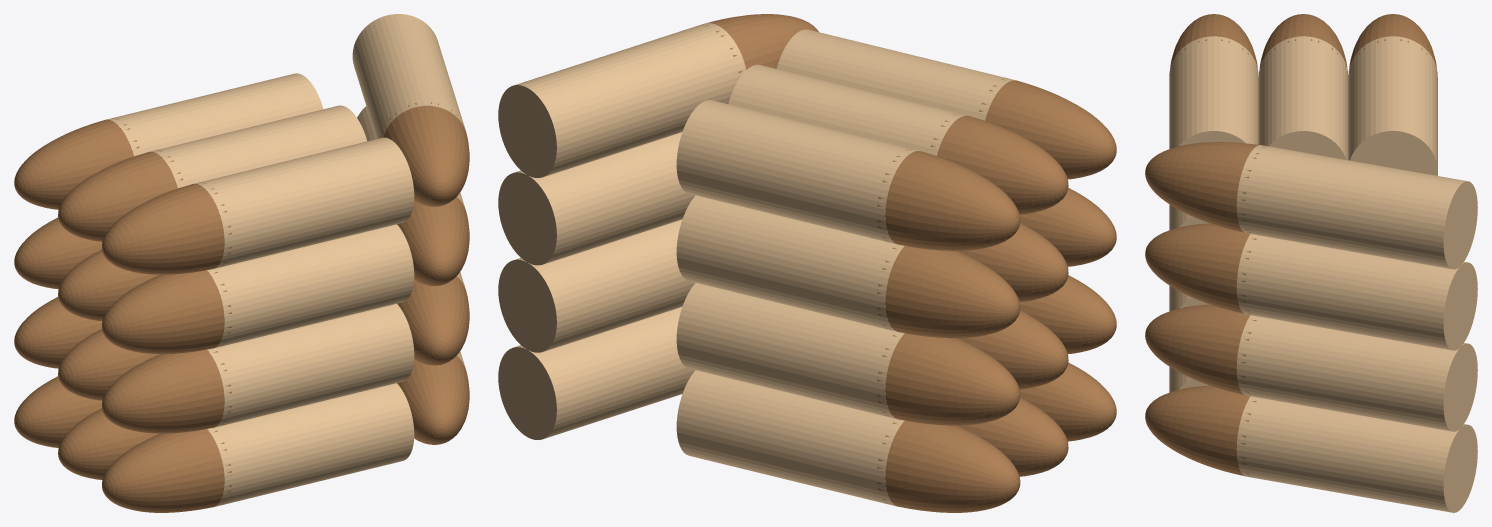
Rendered from ammo.obj.
The picture shows the model from 3 angles, left to right: view 1: azimuth 30°, elevation 25°; view 2: azimuth 150°, elevation 25°; view 3: azimuth 270°, elevation 25°; orthographic projection. The views are drawn at different scales.
Parts seen in each view (by area): view 1: obj_20, obj_26, obj_28, obj_24, obj_30, obj_21, obj_0, obj_10, obj_27, obj_25, obj_29, obj_31 (+11 smaller); view 2: obj_30, obj_0, obj_4, obj_6, obj_8, obj_36, obj_38, obj_34, obj_1, obj_20, obj_10, obj_5 (+11 smaller); view 3: obj_30, obj_38, obj_36, obj_34, obj_0, obj_10, obj_20, obj_31, obj_35, obj_37, obj_39, obj_1 (+5 smaller).
Boxes of the visible parts, box(x1,y1,x2,y2) form: obj_20: box(192, 137, 414, 268); obj_26: box(207, 303, 414, 427); obj_28: box(207, 383, 414, 507); obj_24: box(207, 224, 414, 348); obj_30: box(352, 14, 466, 138); obj_21: box(102, 182, 231, 274); obj_0: box(104, 73, 323, 156); obj_10: box(148, 105, 366, 188); obj_27: box(102, 349, 231, 433); obj_25: box(102, 270, 231, 354); obj_29: box(102, 429, 231, 512); obj_31: box(380, 102, 469, 206); obj_30: box(498, 23, 746, 177); obj_0: box(676, 100, 920, 244); obj_4: box(676, 195, 904, 331); obj_6: box(676, 283, 904, 418); obj_8: box(676, 370, 904, 506); obj_36: box(498, 219, 695, 352); obj_38: box(498, 307, 695, 439); obj_34: box(498, 132, 695, 265); obj_1: box(877, 149, 1020, 250); obj_20: box(776, 29, 1017, 120); obj_10: box(728, 64, 968, 155); obj_5: box(877, 246, 1020, 338); obj_30: box(1236, 145, 1477, 269); obj_38: box(1236, 396, 1477, 512); obj_36: box(1236, 315, 1477, 431); obj_34: box(1236, 234, 1477, 350); obj_0: box(1348, 36, 1437, 175); obj_10: box(1258, 36, 1348, 159); obj_20: box(1169, 36, 1258, 148); obj_31: box(1145, 142, 1267, 232); obj_35: box(1145, 223, 1256, 313); obj_37: box(1145, 304, 1258, 395); obj_39: box(1145, 385, 1256, 476); obj_1: box(1349, 14, 1437, 73).
Bounding box in the file's own units: 59 × 41 × 37.16.
